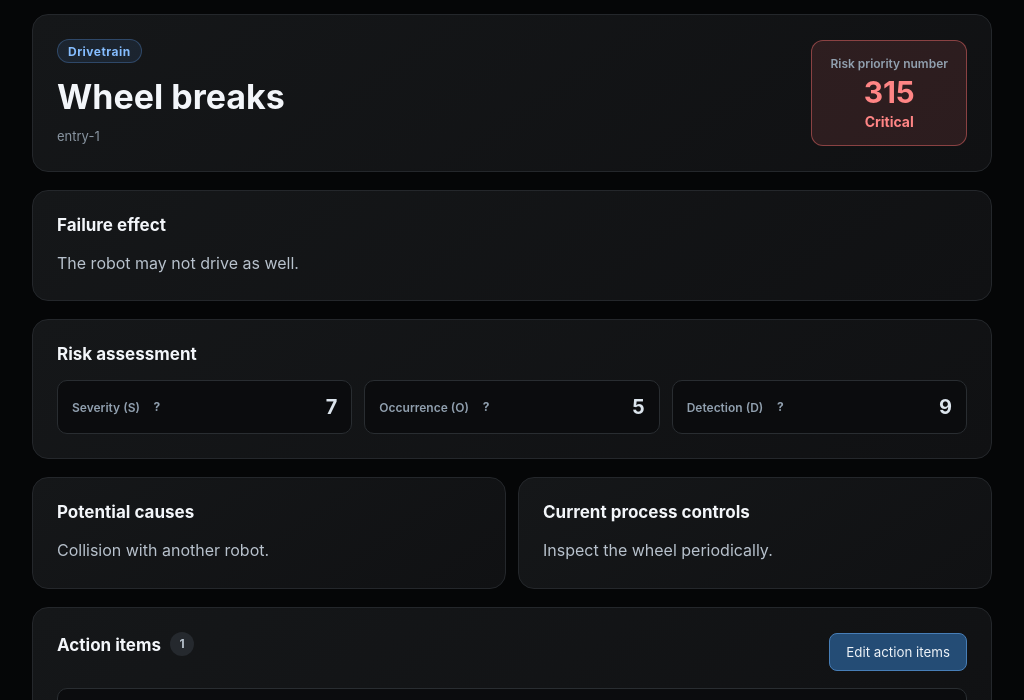
Scenario: FmeaEntryDetailComponent › opens every item for editing and saves description and status changes together
Click the button with class "action-item-toggle": (898, 652) [829,633,967,671]
(page scrolled)
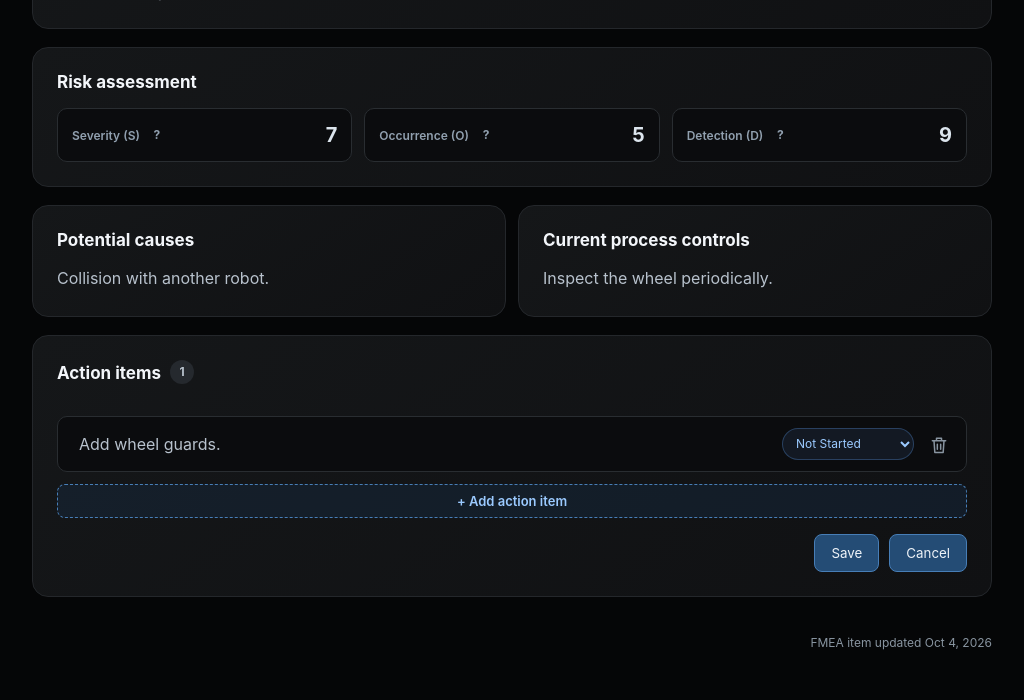
Replace the text in the field named "Action item description" with "Install reinforced wheel guards.": (420, 444) [70,427,770,461]
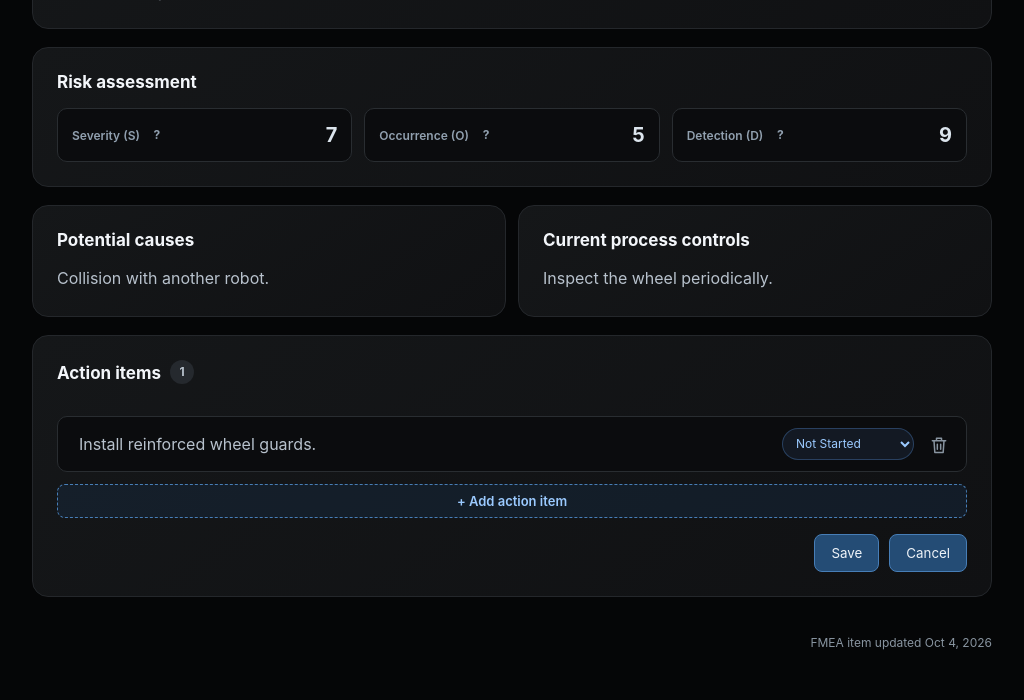
Select "In progress" in the dropdown named "Action item status": (848, 444) [782,428,914,460]
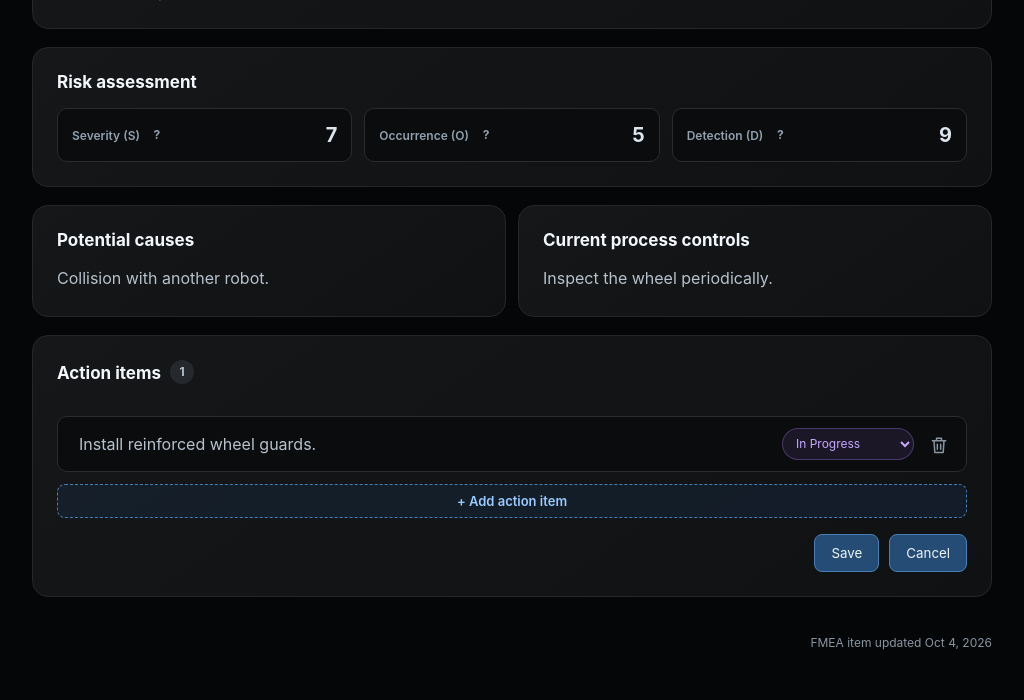
Click the button "Save": (847, 553) [814,534,879,572]
(page scrolled)
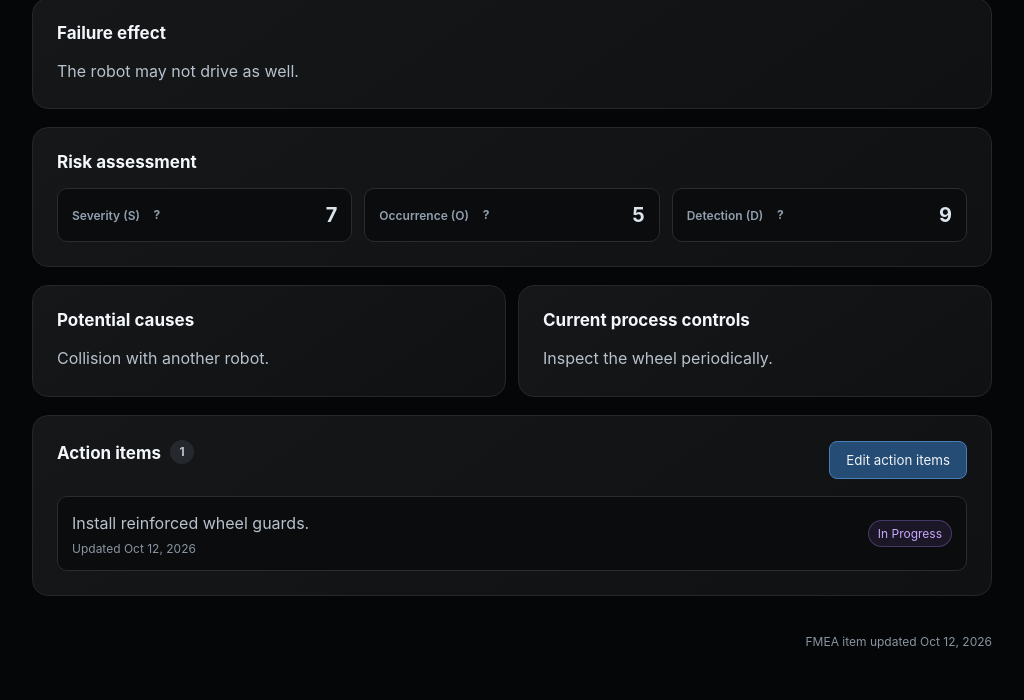
Expected: the text "Install reinforced wheel guards." is shown, [72,513,309,533]
Expected: the text with class "status" reads "in progress", [878,526,942,541]
